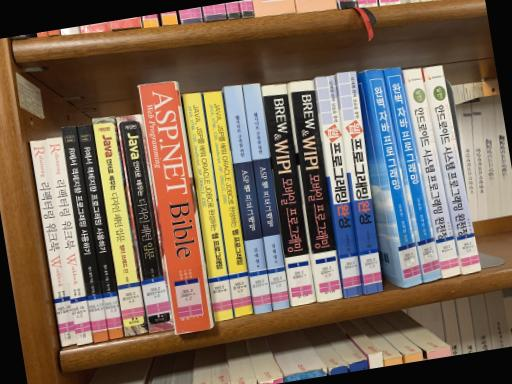book-spine: (138, 81, 211, 334), (383, 67, 442, 283), (115, 114, 173, 332), (365, 68, 422, 288), (92, 117, 149, 336), (402, 68, 461, 278), (180, 92, 233, 322), (262, 83, 316, 306), (289, 81, 343, 302), (424, 65, 481, 274), (203, 90, 252, 316), (224, 84, 272, 314), (243, 82, 291, 310), (336, 71, 383, 294), (61, 126, 109, 342), (76, 124, 124, 339), (316, 74, 362, 298), (29, 139, 77, 347), (46, 137, 94, 345)
